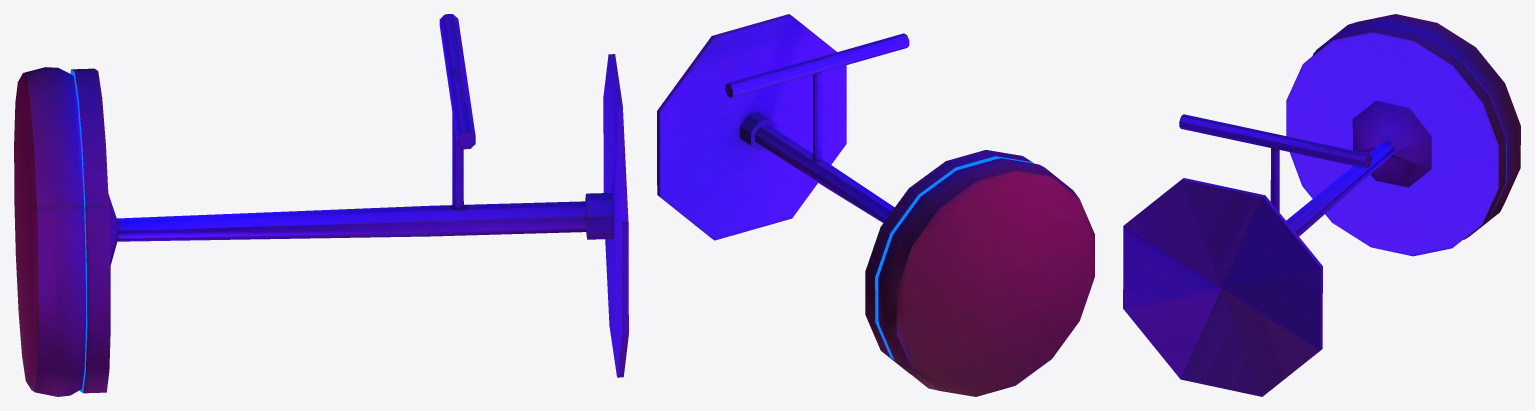
The model's file is dirtyBarStool.glb.
3 views of the same model, side by side, from view 1: azimuth 30°, elevation 25°; view 2: azimuth 150°, elevation 25°; view 3: azimuth 270°, elevation 25° (orthographic). The views are drawn at different scales.
Parts seen in each view (by area): view 1: DirtyBarStool; view 2: DirtyBarStool; view 3: DirtyBarStool.
Boxes of the visible parts, x1,y1,x2,y2 form: DirtyBarStool: [14, 14, 628, 396]; DirtyBarStool: [657, 14, 1094, 396]; DirtyBarStool: [1123, 14, 1520, 396].
Bounding box in the file's own units: 1.04 × 0.51 × 0.8396.
Materials: 2 (1 with a texture image).
